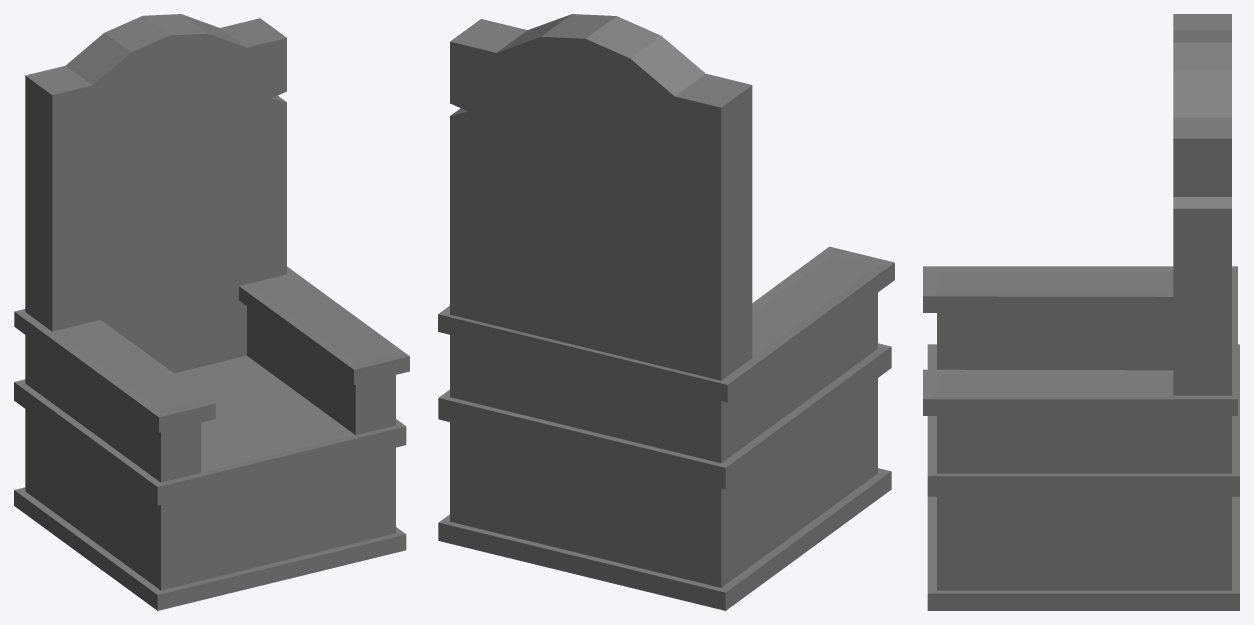
The model's file is stone_throne.fbx.
3 views of the same model, side by side, from view 1: azimuth 30°, elevation 25°; view 2: azimuth 150°, elevation 25°; view 3: azimuth 270°, elevation 25° (orthographic). The views are drawn at different scales.
Visible parts, largest first — view 1: stone_throne; view 2: stone_throne; view 3: stone_throne.
Part boxes in pixels (<box>): stone_throne: <box>14,14,409,610</box>; stone_throne: <box>438,14,894,610</box>; stone_throne: <box>923,14,1239,610</box>.
Size of the model in its own units: 107 by 188 by 107.
